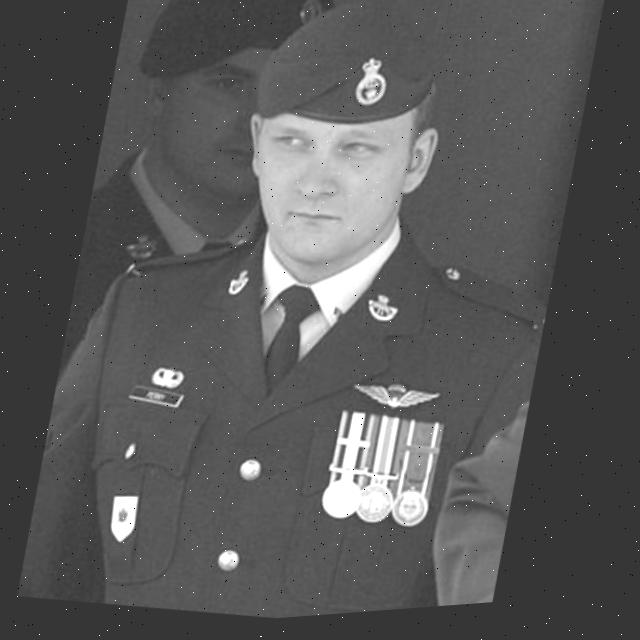face: (216, 57, 449, 281)
